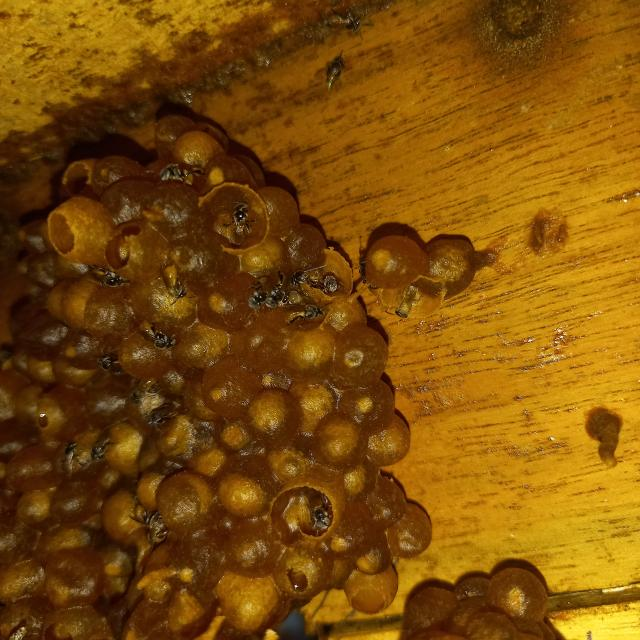honeybee: (132, 504, 166, 531), (80, 436, 104, 466), (145, 405, 174, 429), (152, 320, 177, 346), (308, 506, 332, 532), (251, 290, 281, 310), (101, 256, 126, 280), (160, 285, 190, 301), (99, 341, 118, 366), (226, 214, 254, 226)
